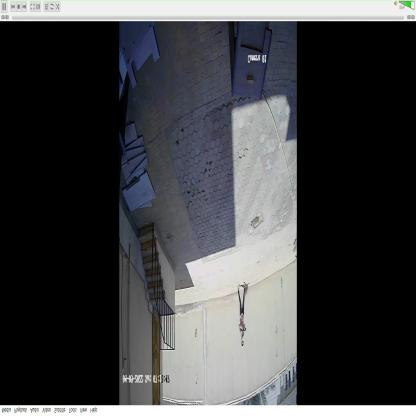handgun: (238, 322, 249, 332)
